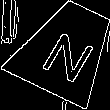N_NE: (34, 18, 99, 81)
